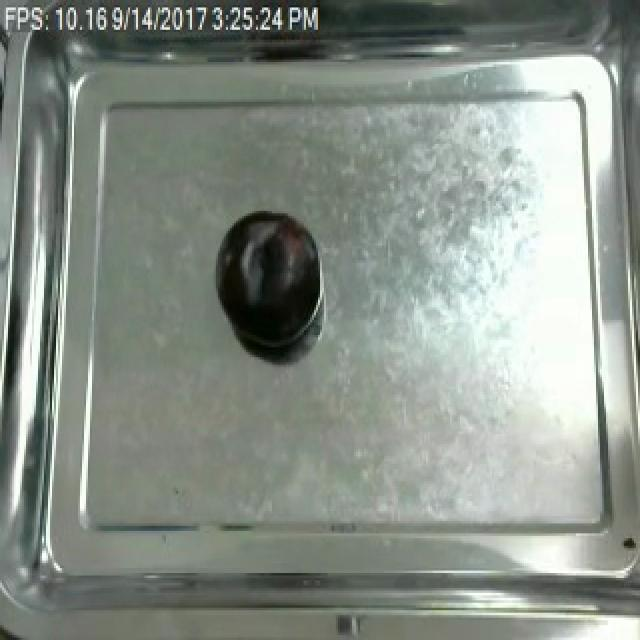Fruit: (212, 206, 322, 357)
